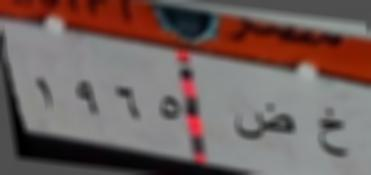1: (31, 72, 62, 120)
5: (154, 88, 183, 126)
6: (112, 81, 143, 128)
9: (72, 75, 100, 124)
daad: (231, 100, 298, 150)
khaa: (312, 100, 352, 162)
